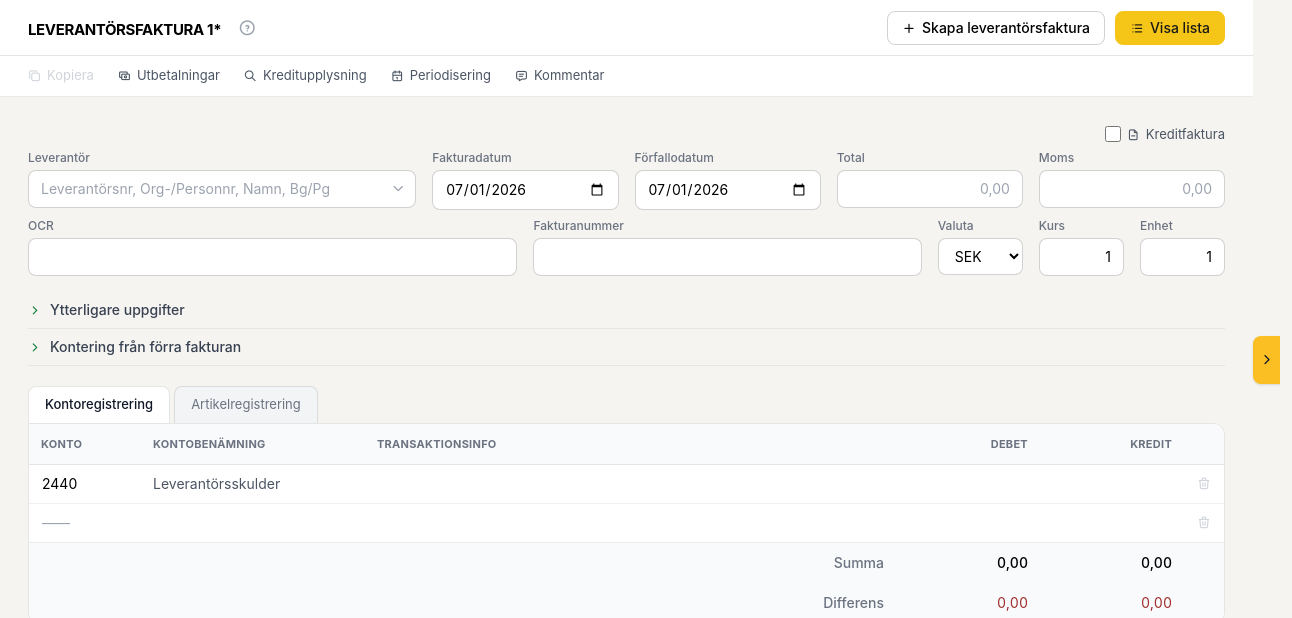
Scenario: Kontering från förra fakturan › Visa underlag är aktiv när tidigare underlag finns
Focus the field with id "lev-leverantor" at (222, 189), box [28,170,416,208]
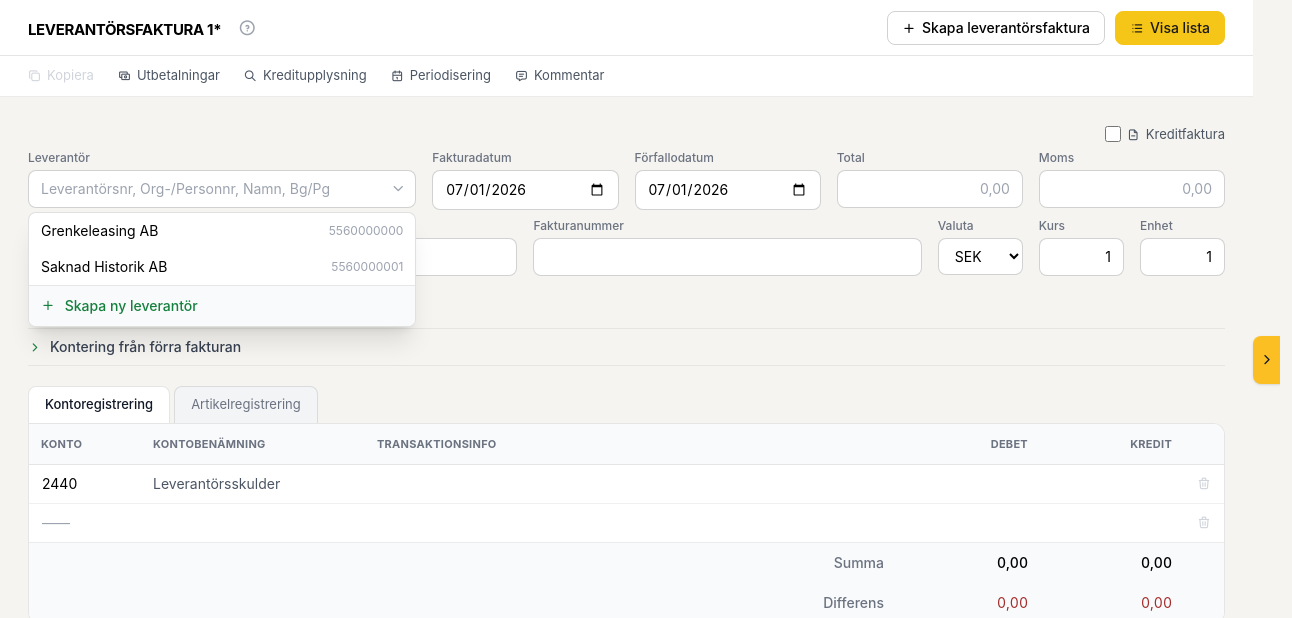
Press the mouse on the text "Grenkeleasing AB" at (100, 231), box [41,221,158,241]
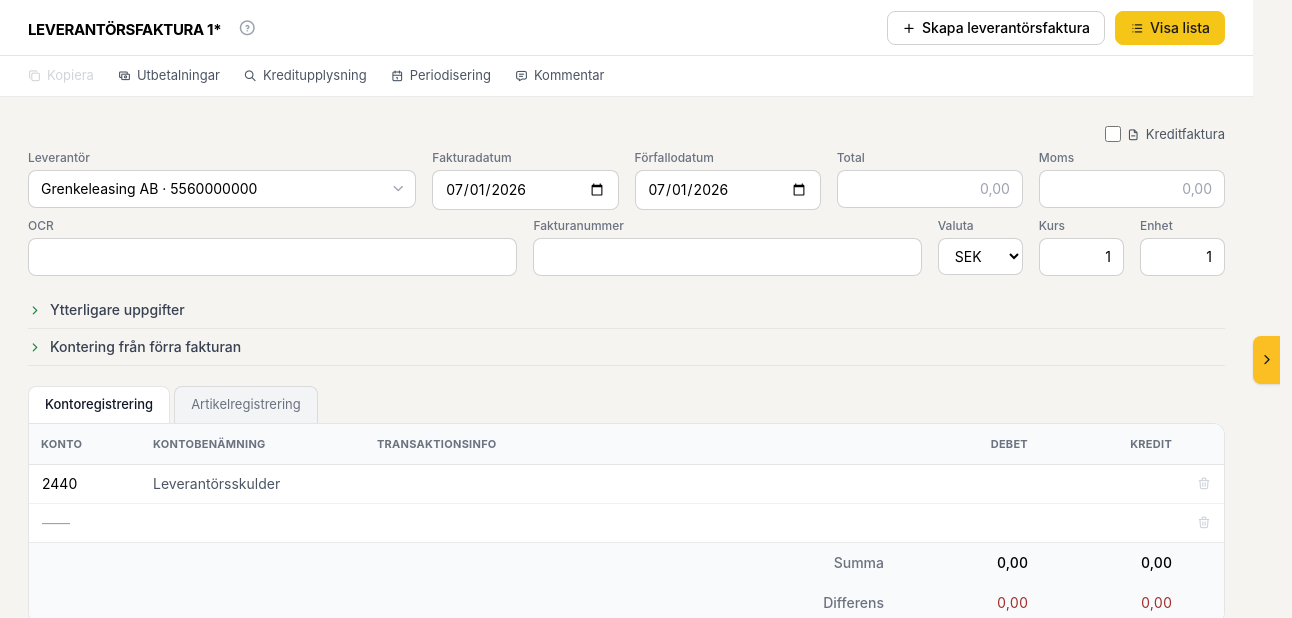
Click the button "Kontering från förra fakturan" at (146, 346), box [28,329,1225,365]
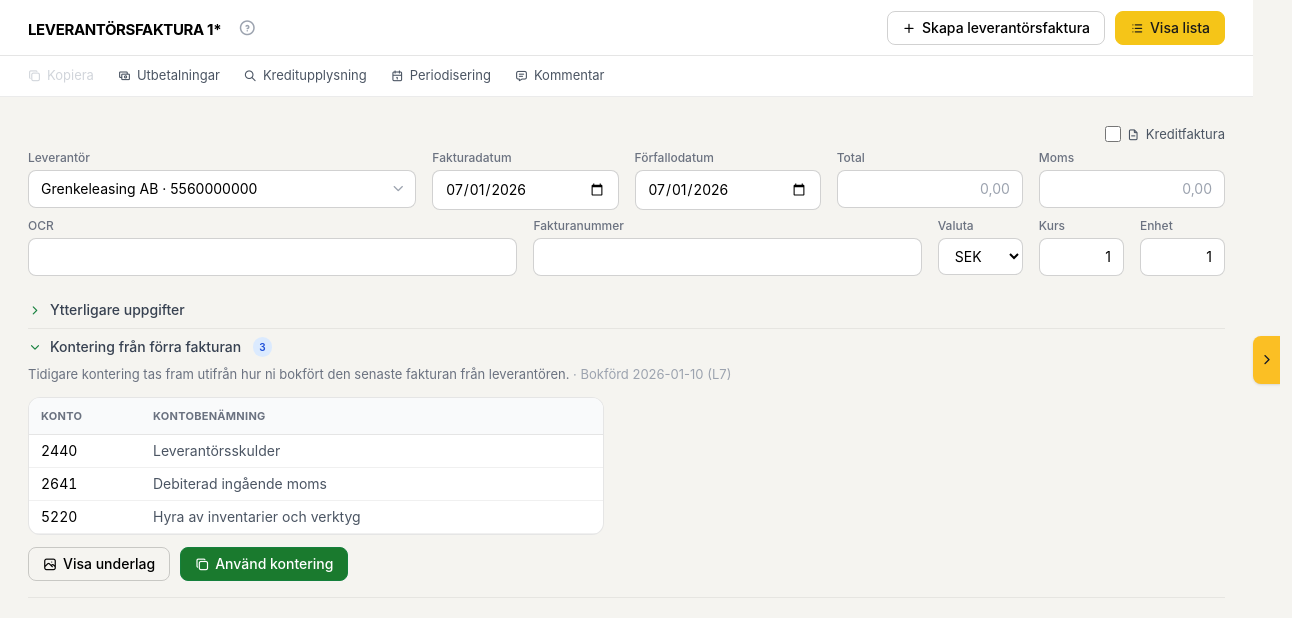
Now the text "5220" is shown, box [29,500,141,533]
Now the button "Visa underlag" is enabled, box [28,546,170,580]
